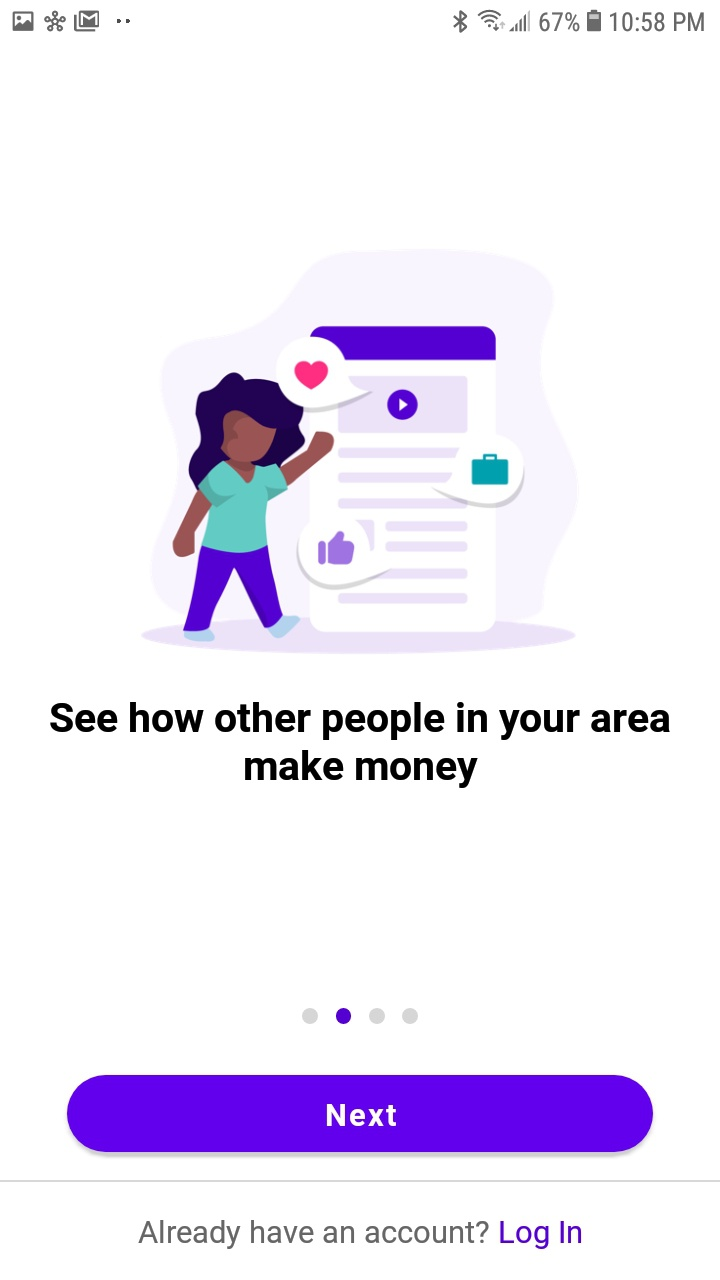Image: (140, 249, 579, 655)
PageIndicator: (302, 1007, 419, 1025)
Text: (50, 702, 671, 789), (138, 1219, 582, 1250)
TextButton: (67, 1074, 654, 1153)
UpperTaskBar: (1, 1, 720, 35)
